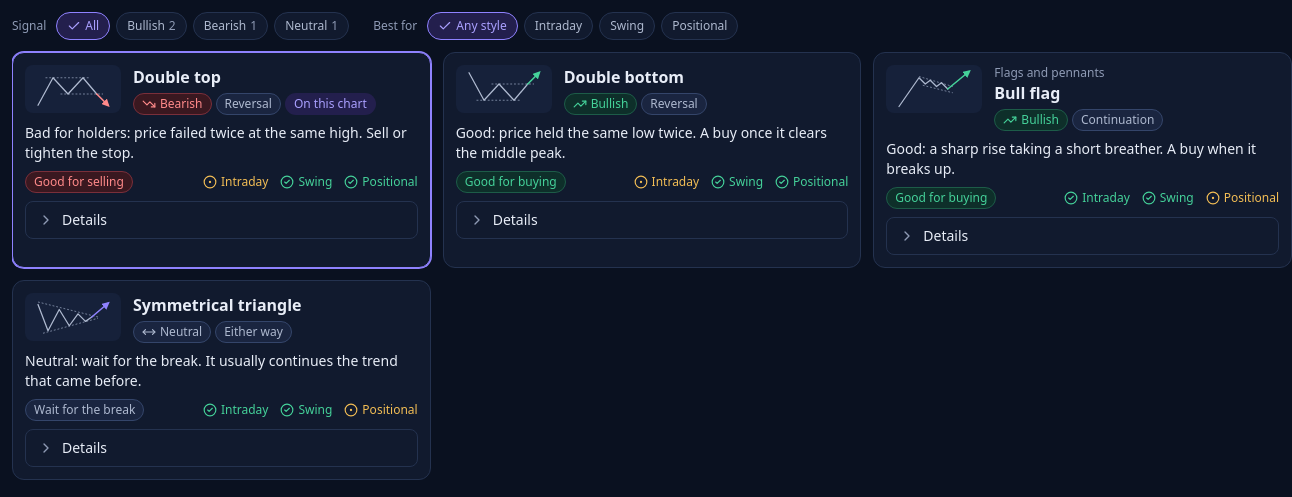
PatternGuide › filters by signal and by trading style, and marks what's on the chart
Expected: the heading "Double top" is shown, [133,66,221,88]
Expected: the text "On this chart" is shown, [285,93,376,115]
Step 1. Click the button "Bearish 1" → (230, 26), box [193,12,268,40]
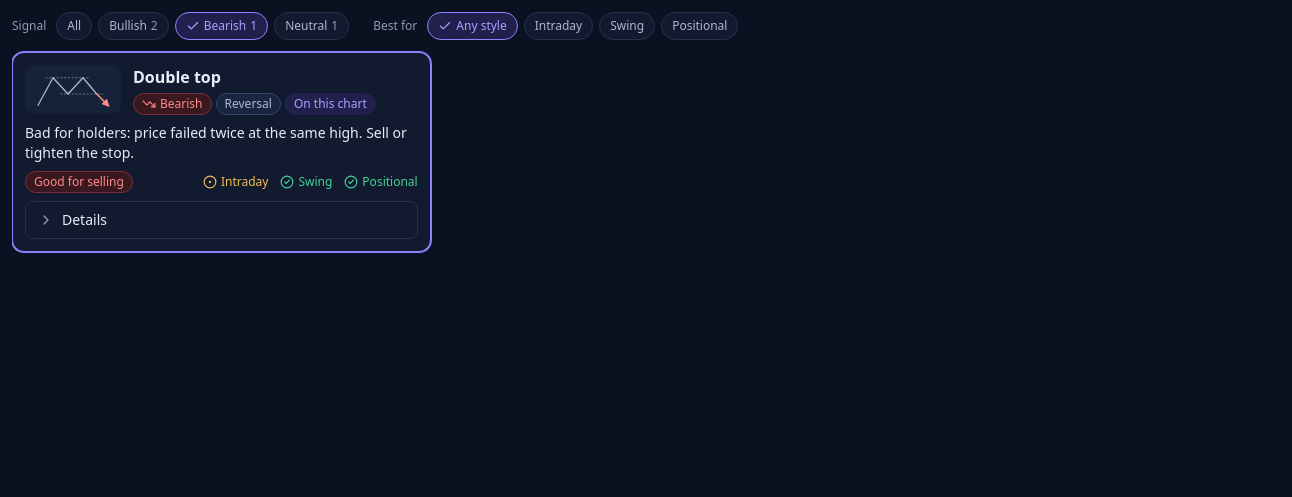
Expected: the headings read "Double top", in this order, [133,66,221,88]
Step 2. Click the button "All" → (74, 26), box [56,12,92,40]
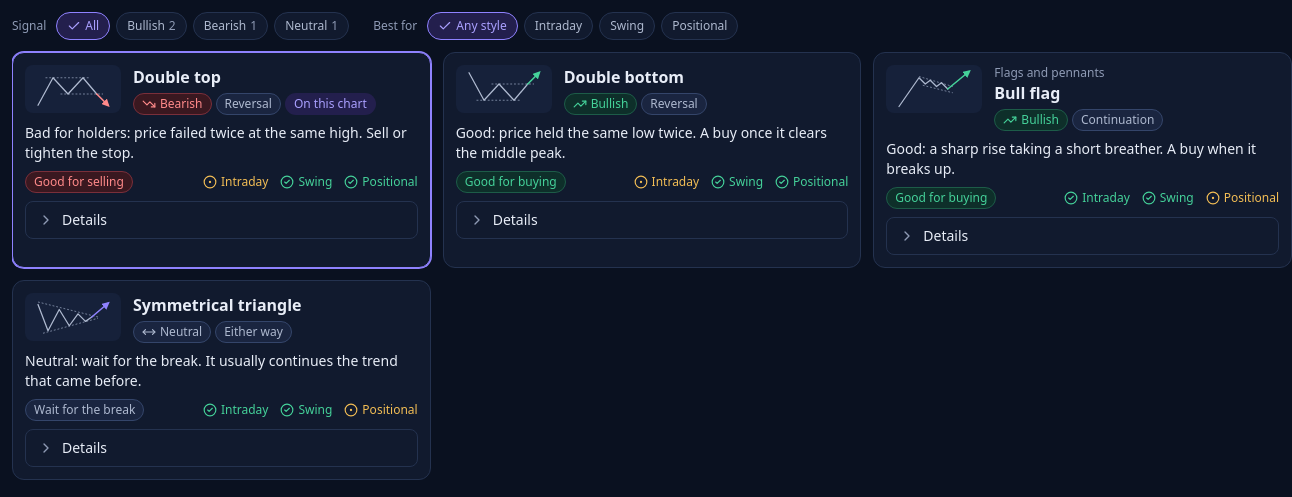
Step 3. Click the button "Intraday" → (558, 26), box [524,12,593,40]
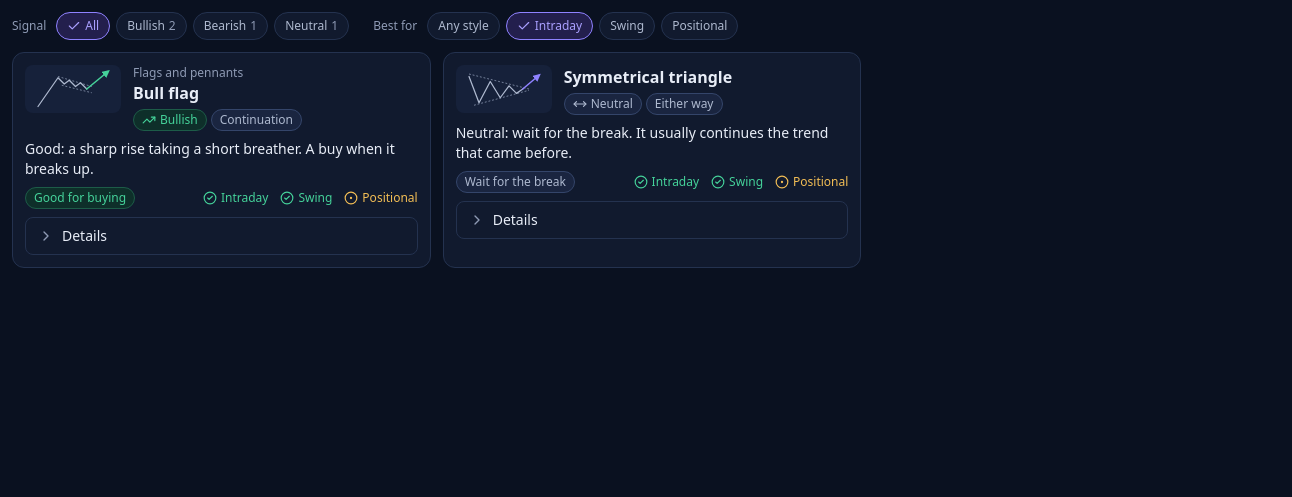
Result: the headings read "Bull flag", "Symmetrical triangle", in this order at [133,82,199,104]; [564,65,732,89]
